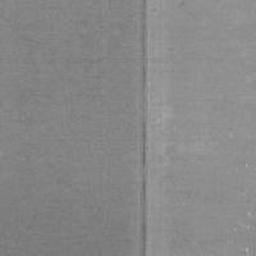Welding line: (138, 0, 150, 256)
